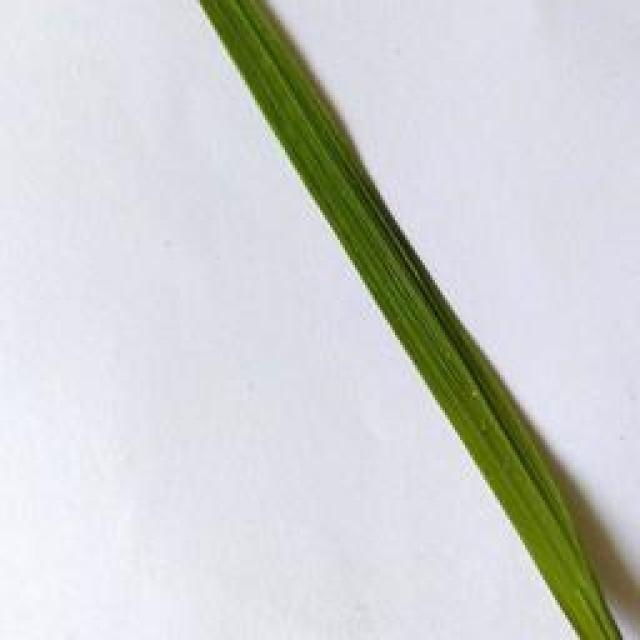Healthy-Plant: (200, 0, 625, 640)
